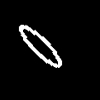chain: (19, 25, 61, 67)
